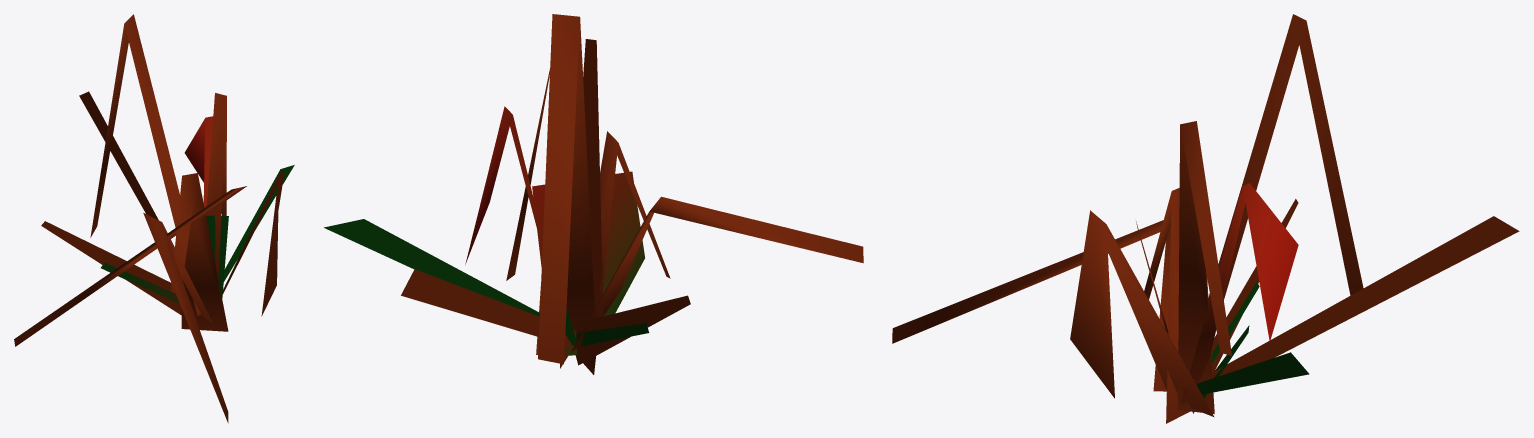
The model's file is Desert Grass_LOD1_Var3_scpho.fbx.
3 views of the same model, side by side, from view 1: azimuth 30°, elevation 25°; view 2: azimuth 150°, elevation 25°; view 3: azimuth 270°, elevation 25° (orthographic). The views are drawn at different scales.
Parts seen in each view (by area): view 1: _1449_Var3_LOD1; view 2: _1449_Var3_LOD1; view 3: _1449_Var3_LOD1.
Boxes of the visible parts, left/top/right/bottom form: _1449_Var3_LOD1: left=14, top=14, right=294, bottom=423; _1449_Var3_LOD1: left=324, top=14, right=863, bottom=374; _1449_Var3_LOD1: left=892, top=14, right=1519, bottom=423.
Bounding box in the file's own units: 13.17 × 11.72 × 17.64.
